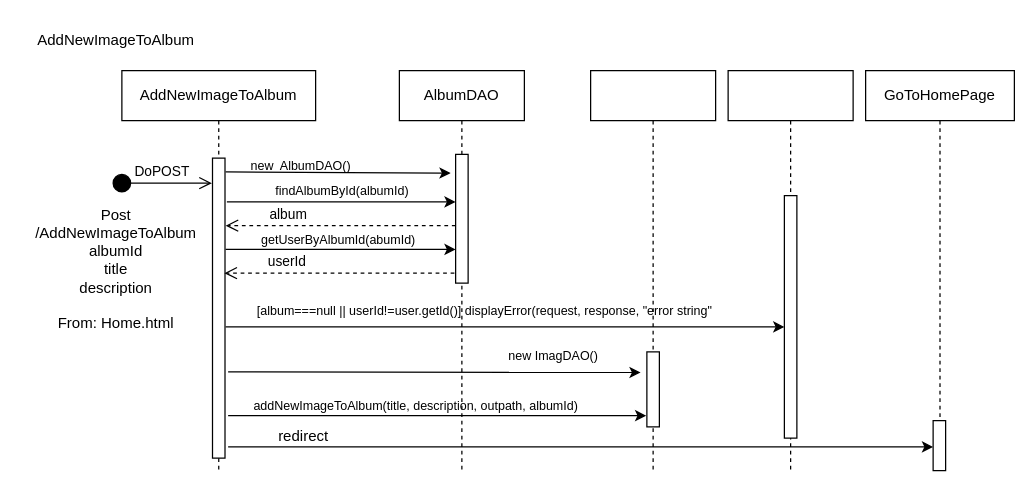
Some shapes in this 1036 by 494 pixel diagram are drawn without their labels. Here are the shapes that lost their labels. From the top down, the box of each, then its label:
(589, 69, 716, 472): ImageDAO
(727, 69, 853, 472): ErrorHandler
